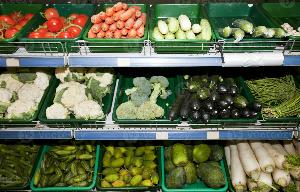carrot: (85, 5, 150, 45)
cucumber: (168, 68, 264, 126), (209, 2, 283, 40)
eggplant: (218, 136, 300, 192)
tomato: (1, 0, 94, 40)
zucchini: (153, 4, 215, 46)
